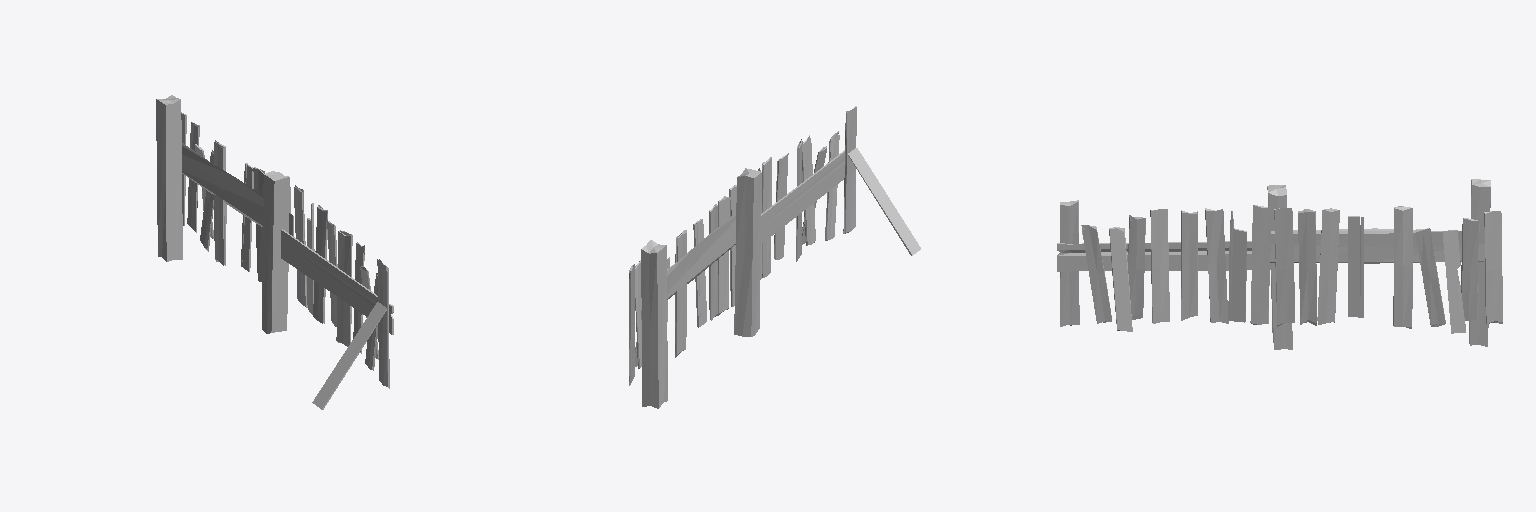
File: fence_01.obj
3 views of the same model, side by side, from view 1: azimuth 30°, elevation 25°; view 2: azimuth 150°, elevation 25°; view 3: azimuth 270°, elevation 25° (orthographic).
Parts seen in each view (by area): view 1: Cube.006_Cube.007; view 2: Cube.006_Cube.007; view 3: Cube.006_Cube.007.
Part boxes in pixels (x1,y1,x2,y2): Cube.006_Cube.007: (156,95,393,409); Cube.006_Cube.007: (629,106,920,408); Cube.006_Cube.007: (1057,179,1502,349).
Bounding box in the file's own units: 1.8 × 3.18 × 7.88.